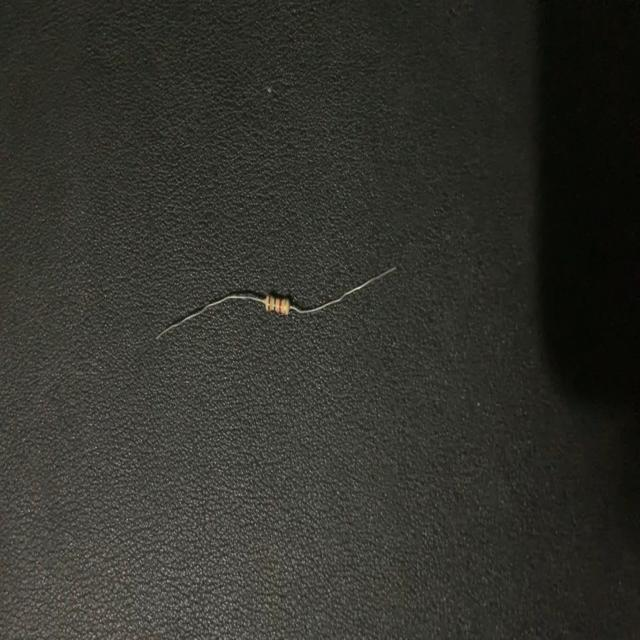resistor: (155, 255, 399, 347)
